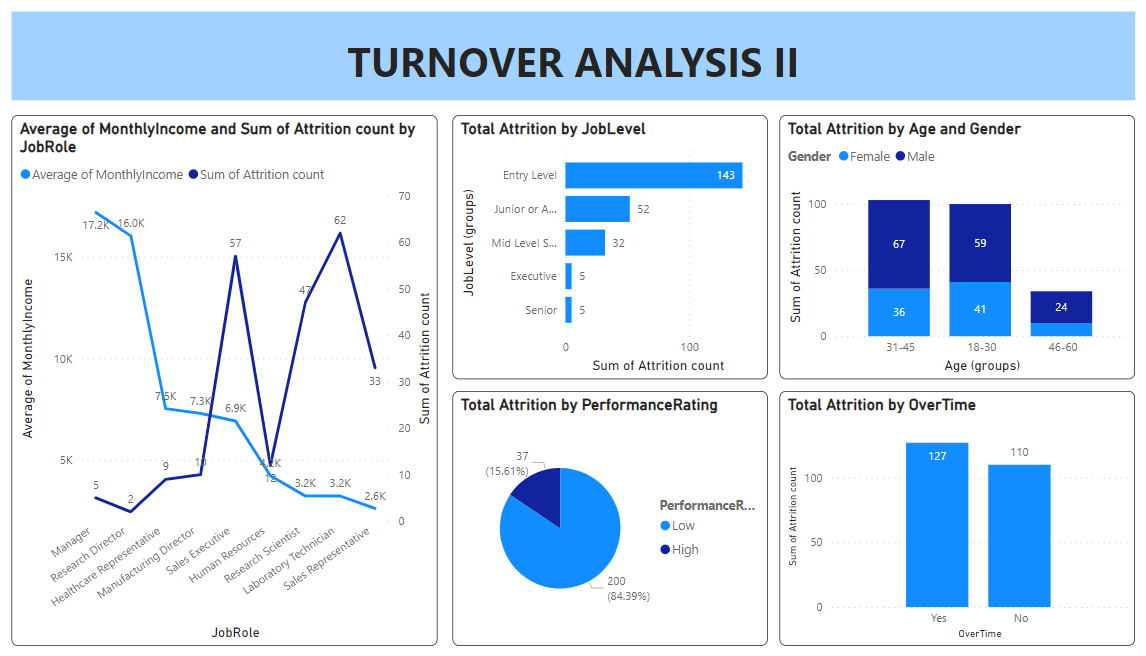

The dashboard page shown, as its layout file describes it:
{"tool":"powerbi","page":{"name":"Page 4","canvas":[1280,720],"ordinal":3},"visuals":[{"type":"columnChart","title":"Total Attrition by Age and Gender","fields":{"Y":["Sum(HR-Employee-Attrition.Attrition count)"],"Series":["HR-Employee-Attrition.Gender"],"Category":["HR-Employee-Attrition.Age (groups)"]},"box":[847.2,143,376.7,279.7],"z":0},{"type":"pieChart","title":"Total Attrition by PerformanceRating","fields":{"Y":["Sum(HR-Employee-Attrition.Attrition count)"],"Category":["HR-Employee-Attrition.PerformanceRating (groups)"]},"box":[500.7,435.5,333.8,270.2],"z":1000},{"type":"barChart","title":"Total Attrition by JobLevel","fields":{"Y":["Sum(HR-Employee-Attrition.Attrition count)"],"Category":["HR-Employee-Attrition.JobLevel (groups)"]},"box":[500.7,143,333.8,279.7],"z":2000},{"type":"columnChart","title":"Total Attrition by OverTime","fields":{"Y":["Sum(HR-Employee-Attrition.Attrition count)"],"Category":["HR-Employee-Attrition.OverTime"]},"box":[847.2,435.5,376.7,270.2],"z":3000},{"type":"lineChart","fields":{"Category":["HR-Employee-Attrition.JobRole"],"Y2":["Sum(HR-Employee-Attrition.Attrition count)"],"Y":["Avg(HR-Employee-Attrition.MonthlyIncome)"]},"box":[33.4,143,451.4,562.6],"z":4000},{"type":"textbox","box":[33.4,33.4,1190.5,93.8],"z":5000}]}

Visuals, with their boxes in screenshot pixels (x1, y1, x2, y2), scaled from the page's 1280x720 canvas onto the 1146x656 screenshot:
"Total Attrition by Age and Gender" columnChart: left=759, top=130, right=1096, bottom=385
"Total Attrition by PerformanceRating" pieChart: left=448, top=397, right=747, bottom=643
"Total Attrition by JobLevel" barChart: left=448, top=130, right=747, bottom=385
"Total Attrition by OverTime" columnChart: left=759, top=397, right=1096, bottom=643
lineChart - HR-Employee-Attrition.JobRole x Sum(HR-Employee-Attrition.Attrition count): left=30, top=130, right=434, bottom=643
textbox: left=30, top=30, right=1096, bottom=116
